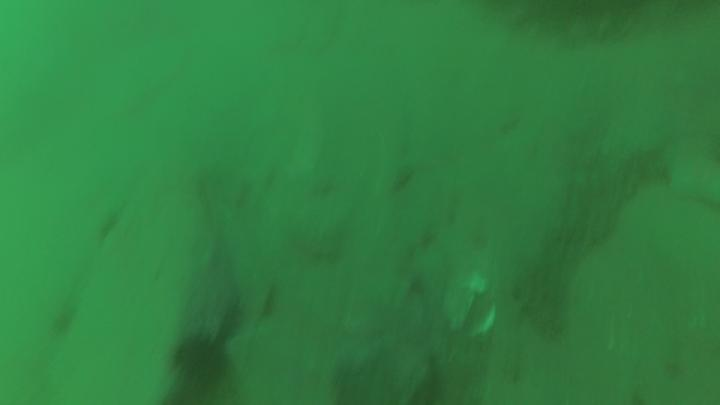echinus: (172, 331, 232, 401)
holothurian: (615, 144, 669, 200)
scallop: (443, 271, 496, 341)
